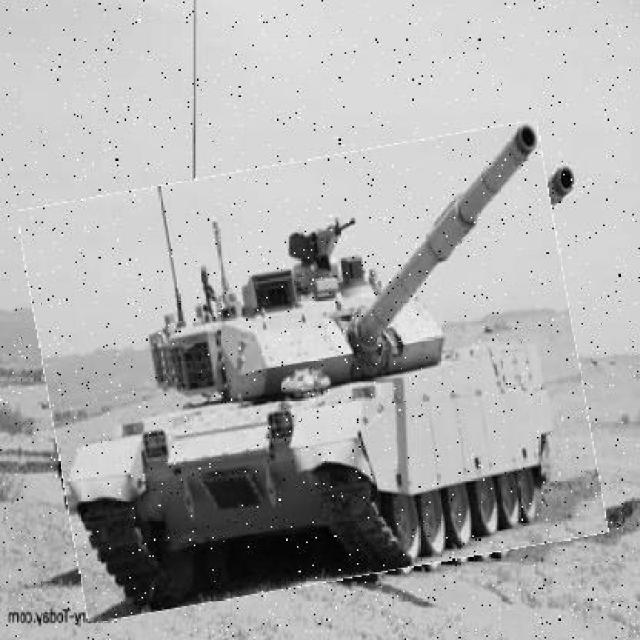Tank: (35, 143, 595, 604)
